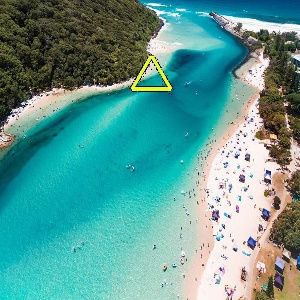triangle: (129, 53, 175, 94)
